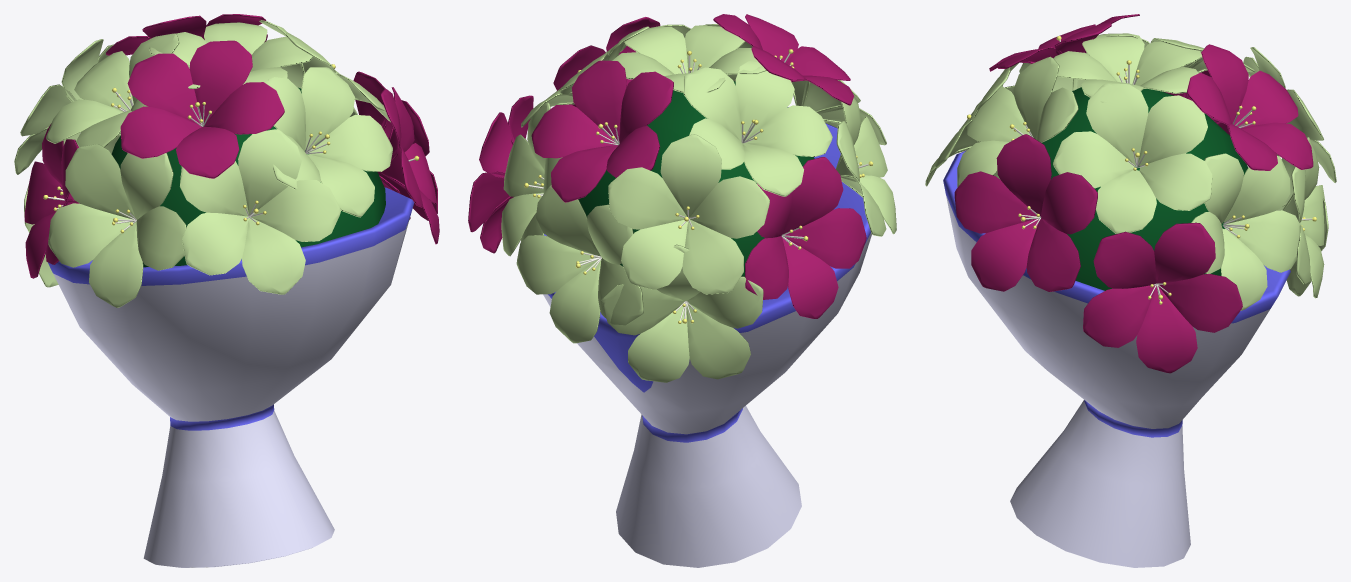
File: dodam_Prop_flower.fbx
3 renders of one model, left to right at view 1: azimuth 30°, elevation 25°; view 2: azimuth 150°, elevation 25°; view 3: azimuth 270°, elevation 25°, orthographic. The views are drawn at different scales.
Parts seen in each view (by area): view 1: dodam_flower; view 2: dodam_flower; view 3: dodam_flower.
Part boxes in pixels (x1=…): dodam_flower: x1=14, y1=14, x2=439, y2=567; dodam_flower: x1=468, y1=14, x2=896, y2=567; dodam_flower: x1=925, y1=14, x2=1336, y2=567.
Bounding box in the file's own units: 22.65 × 30.58 × 22.34.
Materials: 1 (1 with a texture image).
